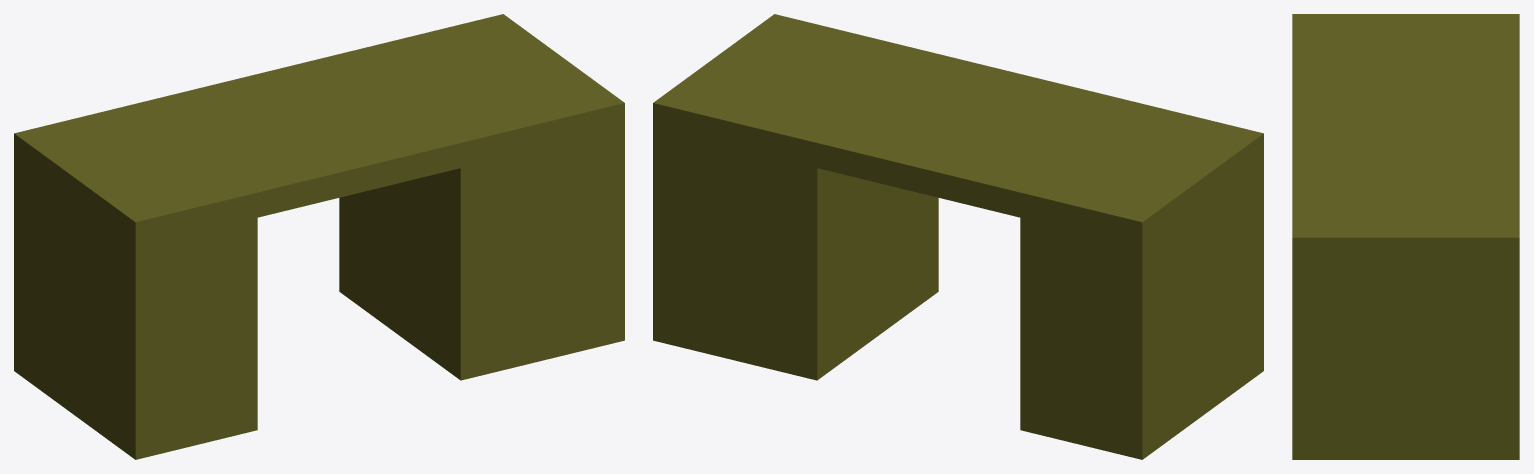
The model's file is blockout_Desk_with_PC.fbx.
3 renders of one model, left to right at view 1: azimuth 30°, elevation 25°; view 2: azimuth 150°, elevation 25°; view 3: azimuth 270°, elevation 25°, orthographic. The views are drawn at different scales.
Parts seen in each view (by area): view 1: blockout_Desk_with_PC; view 2: blockout_Desk_with_PC; view 3: blockout_Desk_with_PC.
Boxes of the visible parts, x1=… form: blockout_Desk_with_PC: x1=14, y1=14, x2=624, y2=459; blockout_Desk_with_PC: x1=653, y1=14, x2=1263, y2=459; blockout_Desk_with_PC: x1=1292, y1=14, x2=1519, y2=459.
Size of the model in its own units: 100 by 46.41 by 43.
1 material, 1 textured.
